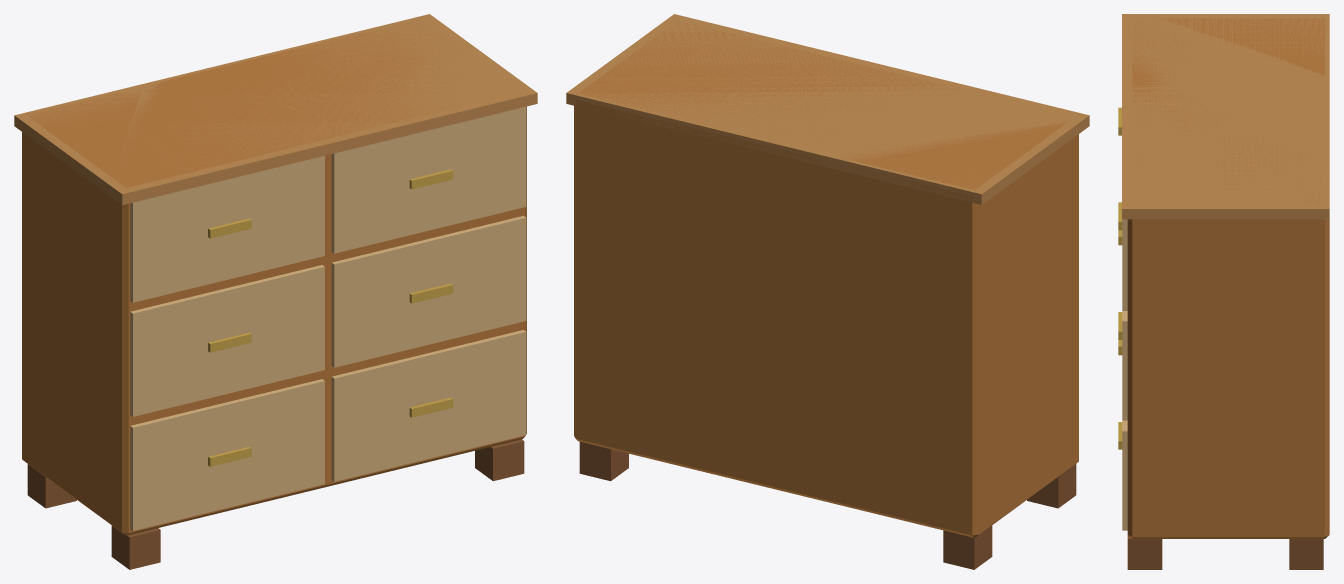
Rendered from FUR_Dresser_Frac.fbx.
3 views of the same model, side by side, from view 1: azimuth 30°, elevation 25°; view 2: azimuth 150°, elevation 25°; view 3: azimuth 270°, elevation 25° (orthographic). The views are drawn at different scales.
Parts seen in each view (by area): view 1: FUR_Dresser_Frac_1, FUR_Dresser_Frac_2, FUR_Dresser_Frac_5, FUR_Dresser_Frac_4, FUR_Dresser_Frac_3; view 2: FUR_Dresser_Frac_1, FUR_Dresser_Frac_5, FUR_Dresser_Frac_3, FUR_Dresser_Frac_2, FUR_Dresser_Frac_4; view 3: FUR_Dresser_Frac_3, FUR_Dresser_Frac_5, FUR_Dresser_Frac_4, FUR_Dresser_Frac_2, FUR_Dresser_Frac_1.
Boxes of the visible parts, x1=… form: FUR_Dresser_Frac_1: x1=14, y1=84, x2=259, y2=569; FUR_Dresser_Frac_2: x1=109, y1=77, x2=364, y2=502; FUR_Dresser_Frac_5: x1=171, y1=14, x2=537, y2=279; FUR_Dresser_Frac_4: x1=302, y1=261, x2=526, y2=481; FUR_Dresser_Frac_3: x1=366, y1=125, x2=526, y2=273; FUR_Dresser_Frac_1: x1=721, y1=125, x2=1079, y2=569; FUR_Dresser_Frac_5: x1=566, y1=14, x2=947, y2=350; FUR_Dresser_Frac_3: x1=574, y1=179, x2=761, y2=474; FUR_Dresser_Frac_2: x1=768, y1=81, x2=1089, y2=329; FUR_Dresser_Frac_4: x1=579, y1=450, x2=722, y2=481; FUR_Dresser_Frac_3: x1=1122, y1=237, x2=1329, y2=555; FUR_Dresser_Frac_5: x1=1118, y1=80, x2=1329, y2=290; FUR_Dresser_Frac_4: x1=1118, y1=312, x2=1323, y2=569; FUR_Dresser_Frac_2: x1=1118, y1=14, x2=1329, y2=355; FUR_Dresser_Frac_1: x1=1147, y1=14, x2=1329, y2=74.
Size of the model in its own units: 4 by 3.5 by 1.83.
